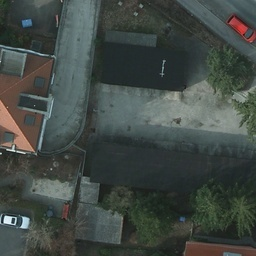car: (225, 15, 256, 42), (1, 211, 30, 229)
